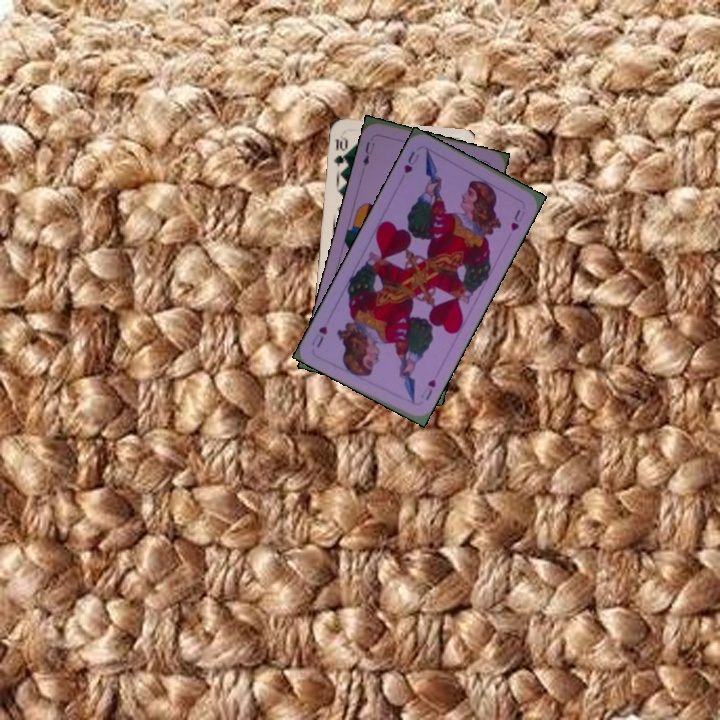EU: (359, 137, 378, 169)
G10: (330, 132, 350, 170)
HU: (416, 375, 439, 403), (400, 147, 422, 176)
